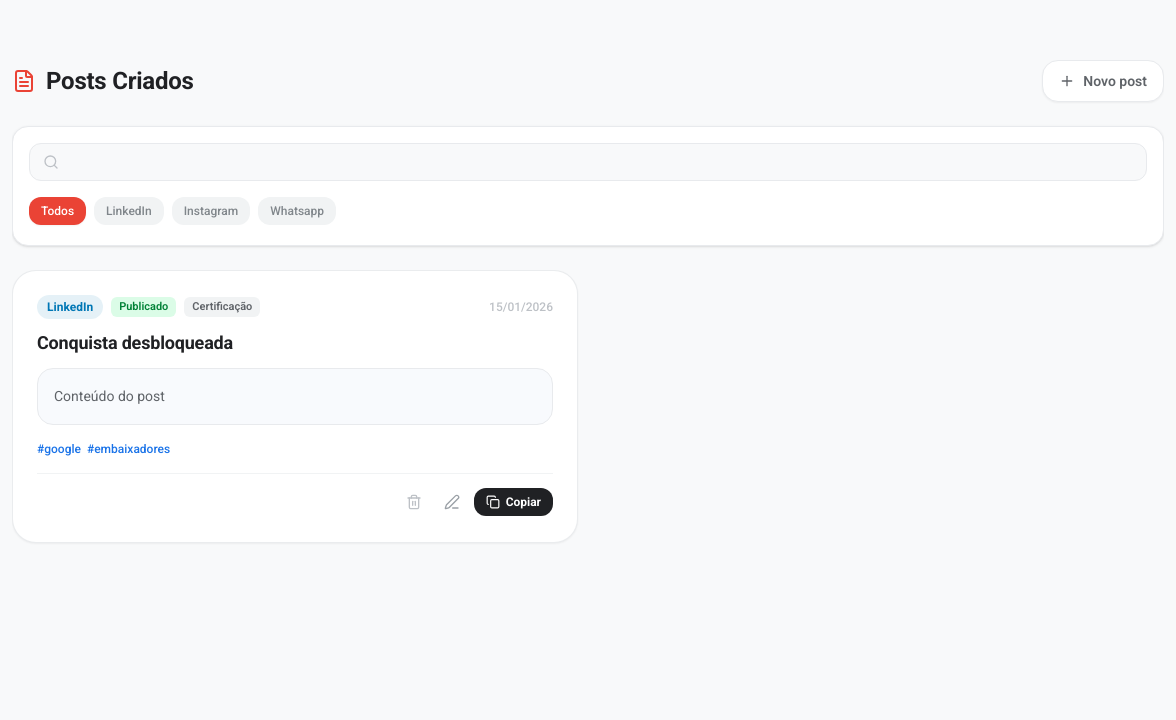
it: PostsModule › copies the post content to the clipboard
The image size is (1176, 720).
Click the button "Copiar". click: {"x": 513, "y": 502}
box: 474,488 -> 553,516
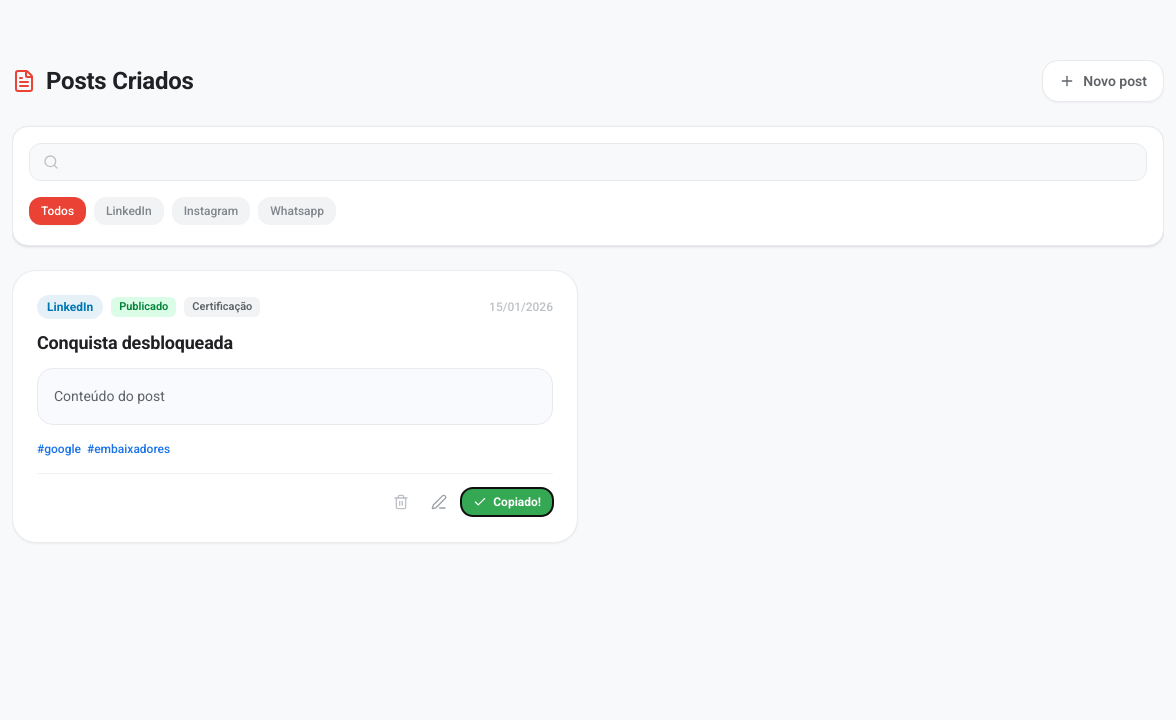
Expected: the text "Copiado!" is shown, 493,494 -> 541,510
